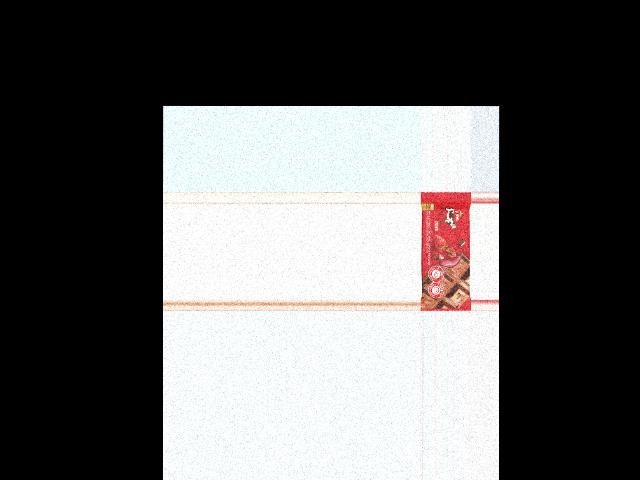chocolate: (420, 191, 470, 310)
